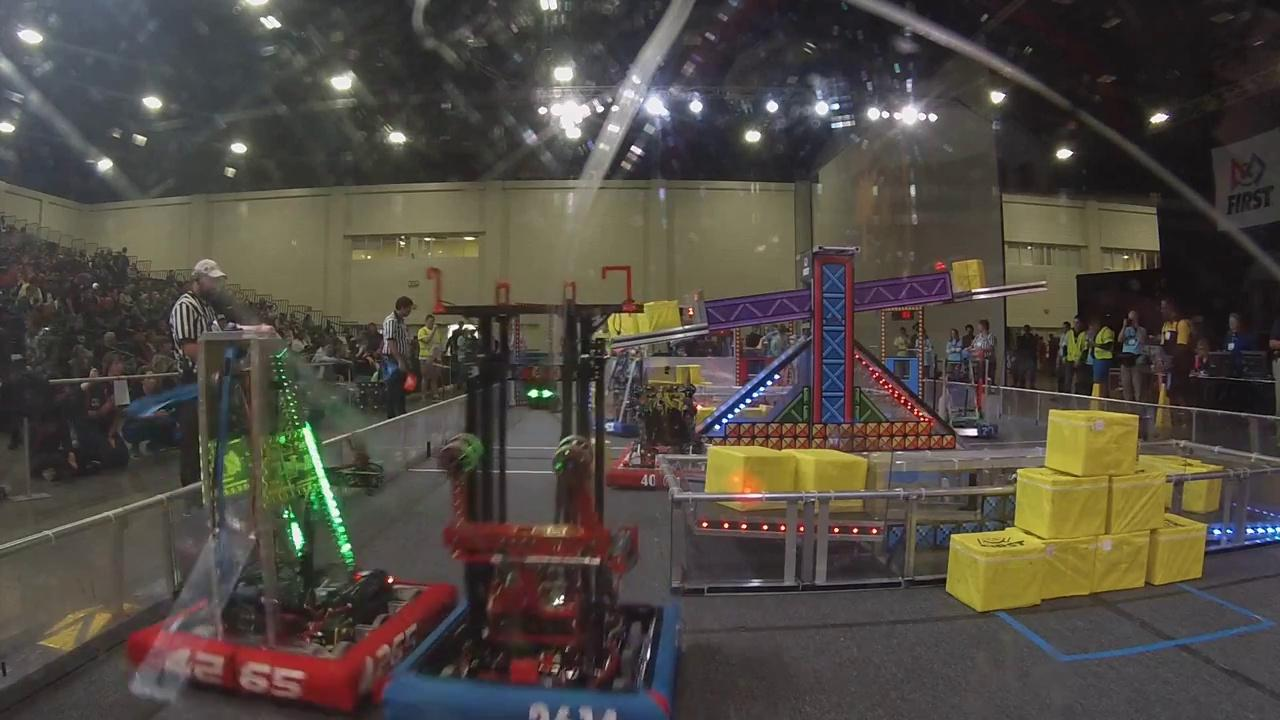robot: (379, 272, 687, 720), (126, 327, 461, 717), (609, 361, 718, 495), (592, 353, 648, 439)
